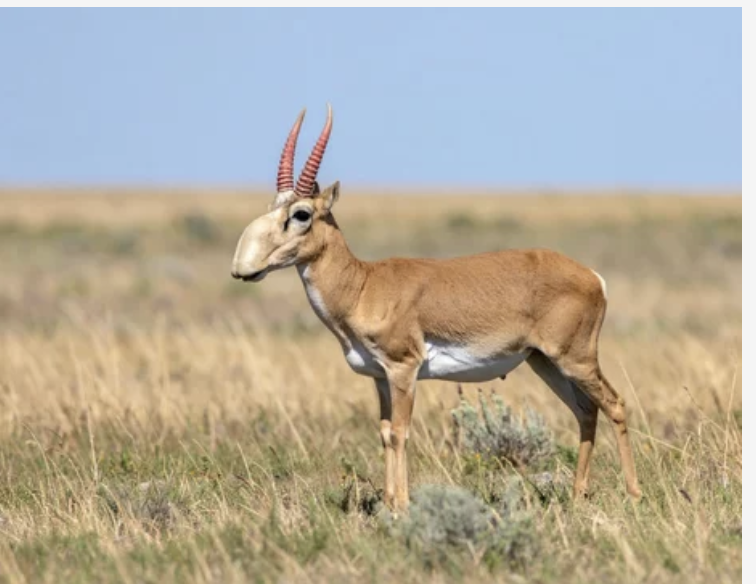saiga: (237, 97, 645, 534)
